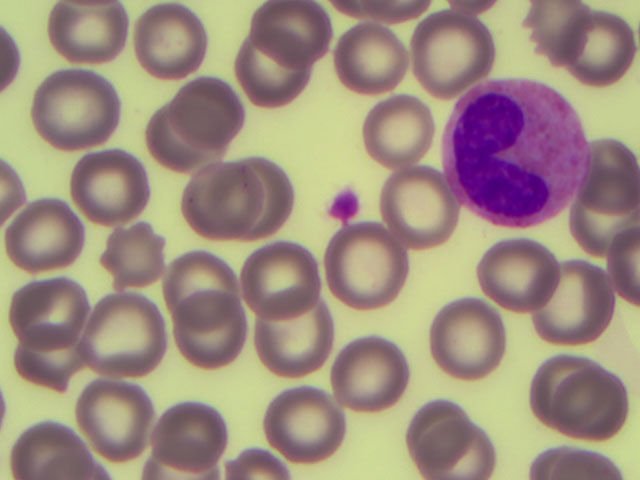Platelets: (322, 186, 363, 227)
RBC: (30, 69, 117, 153), (68, 145, 155, 229), (3, 261, 90, 345), (4, 318, 91, 402), (85, 298, 172, 382), (94, 214, 181, 298), (157, 230, 244, 314), (158, 292, 245, 376), (236, 234, 323, 318), (168, 151, 255, 235), (232, 153, 319, 237), (125, 91, 212, 175), (171, 75, 258, 159), (130, 3, 217, 87), (45, 1, 132, 85), (223, 40, 310, 124), (317, 26, 404, 110), (349, 81, 436, 165), (380, 165, 467, 249), (326, 221, 413, 305), (252, 301, 339, 385), (330, 331, 417, 415), (262, 377, 349, 461), (147, 392, 234, 476), (77, 375, 164, 459), (416, 394, 503, 478), (422, 300, 509, 384), (459, 238, 546, 322), (530, 258, 617, 342), (534, 353, 621, 437), (1, 189, 87, 273), (259, 1, 346, 84), (412, 7, 498, 89), (571, 180, 640, 261), (571, 134, 640, 215), (571, 14, 640, 95), (529, 1, 598, 81), (9, 417, 91, 480), (252, 1, 332, 59)
WBC: (448, 78, 587, 221)
